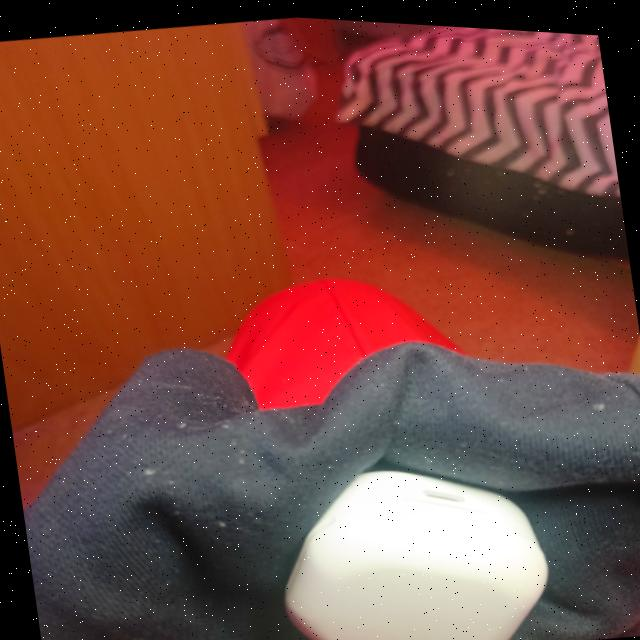headphones: (285, 466, 548, 640)
